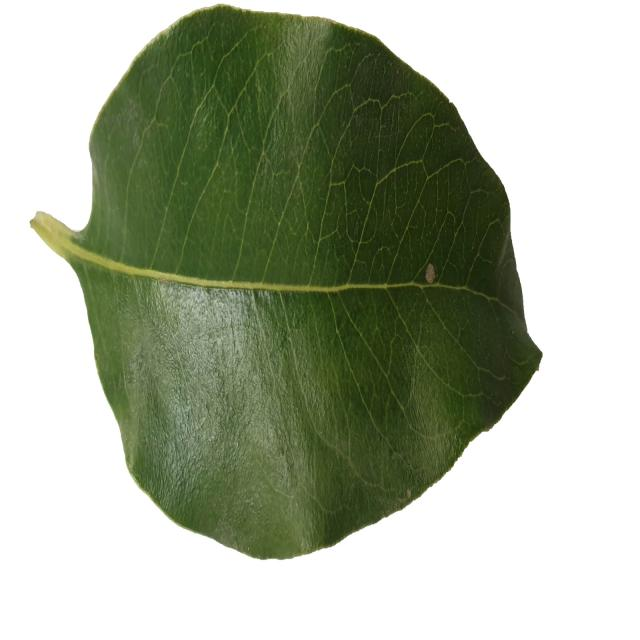Medicinal-Sandalwood: (30, 0, 543, 557)
